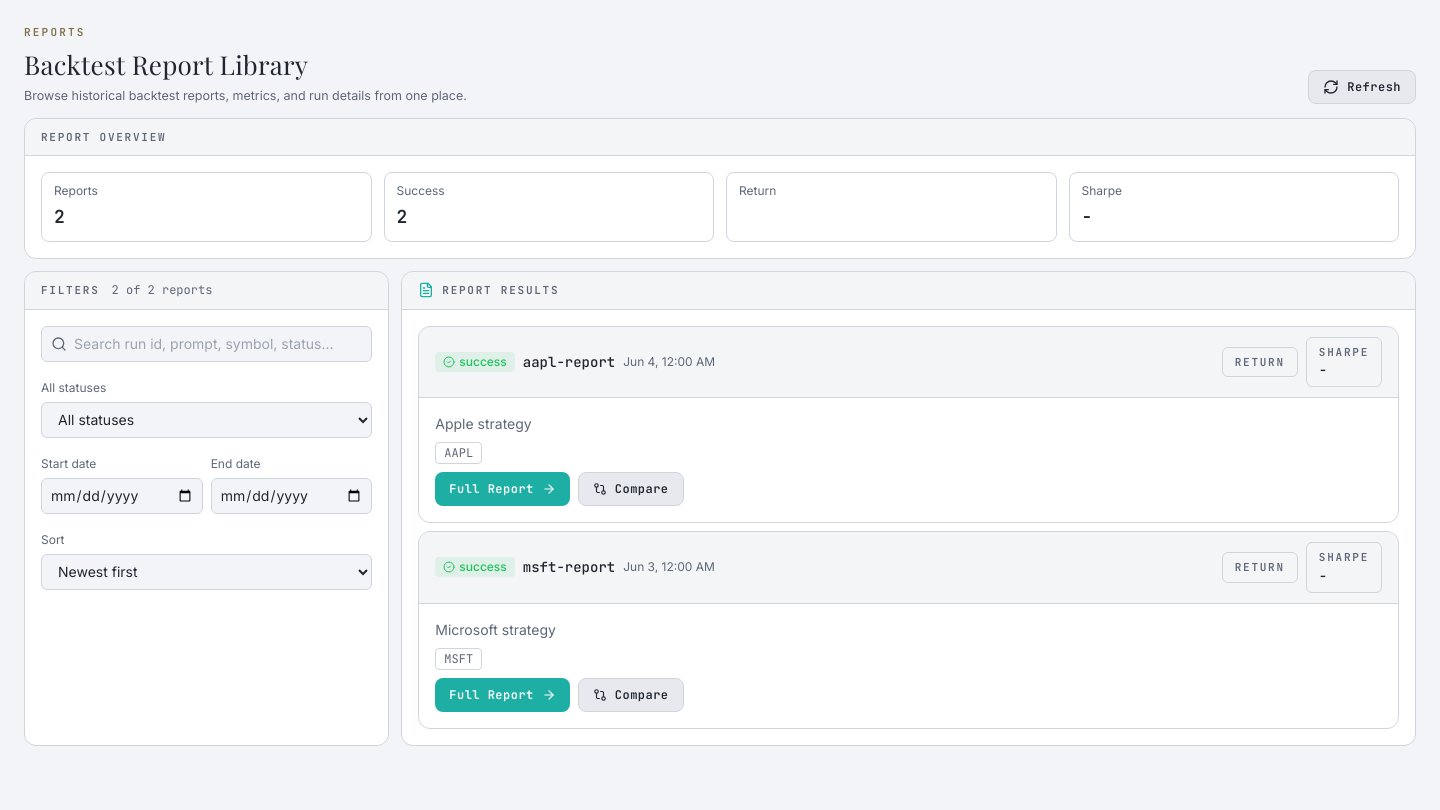
Test: Reports page › filters reports by search text
Check: the link "aapl-report" is shown, box [523,352,615,372]
Type "MSFT" into the search field with placeholder "Search run id, prompt, symbol, status..." at (207, 344), box [41,326,372,362]
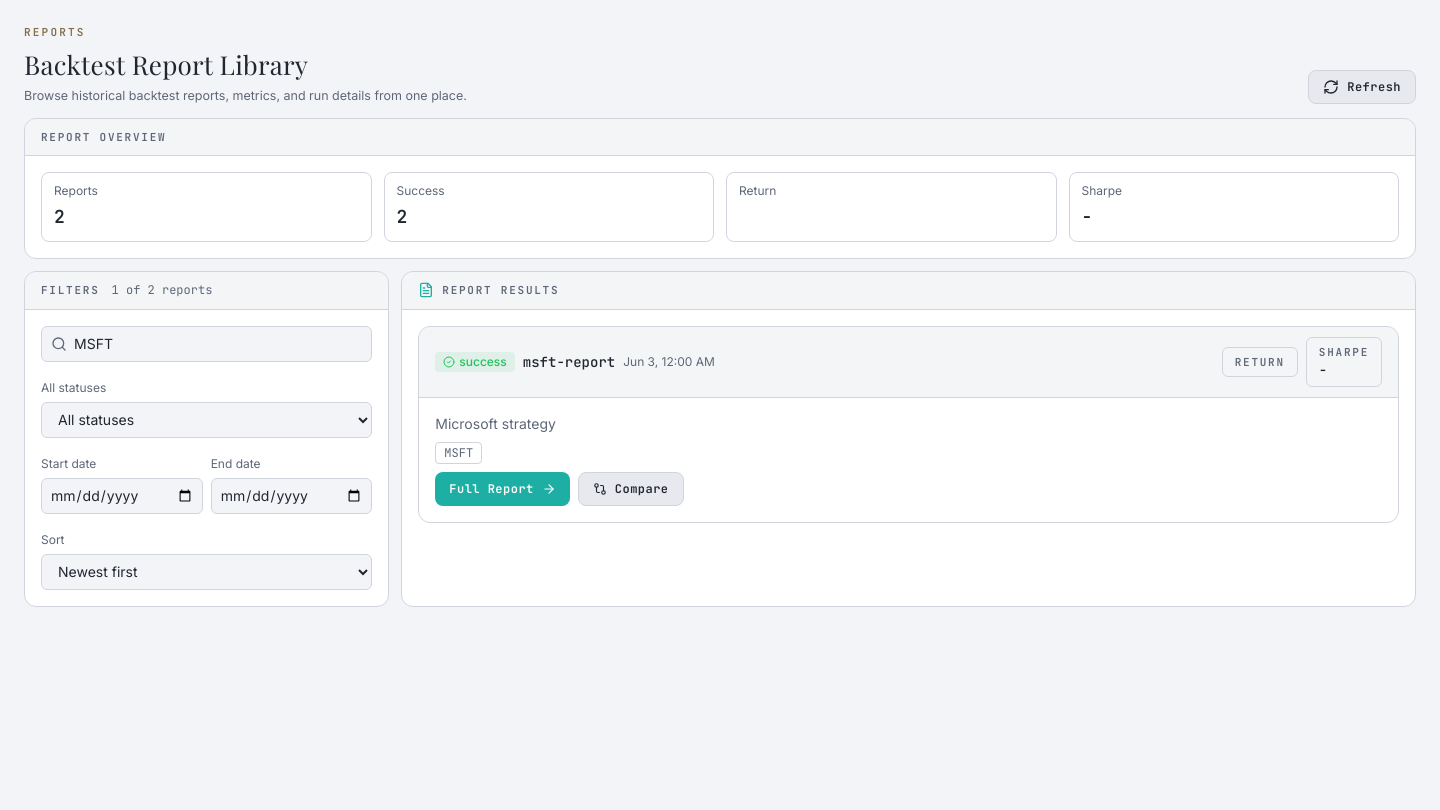
Check: the link "msft-report" is shown, box [523,352,615,372]
Check: the link "aapl-report" is gone
